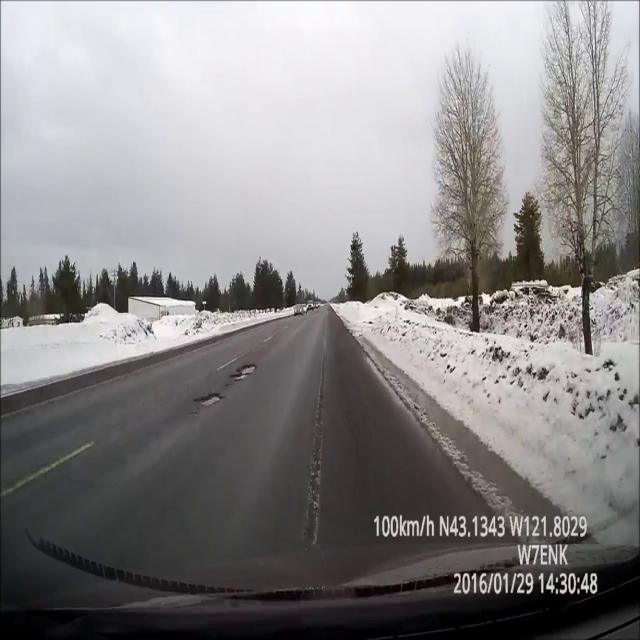Pothole: (228, 363, 256, 383), (194, 392, 224, 408)
